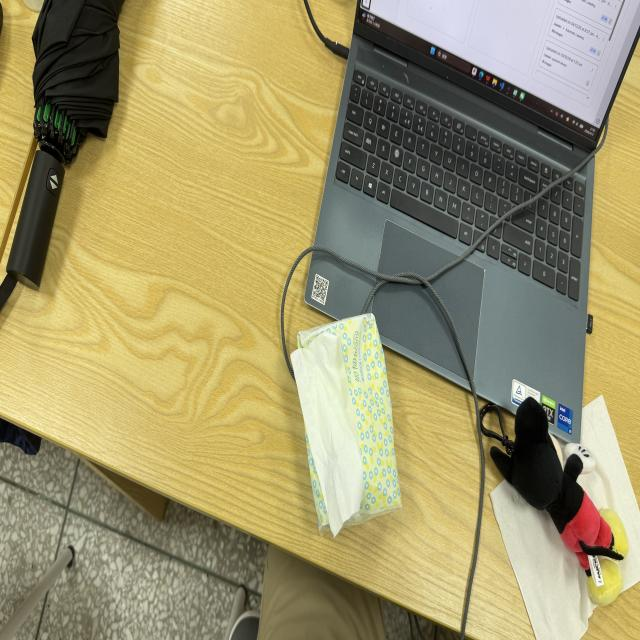mickey: (491, 398, 628, 605)
tissue: (292, 314, 401, 535)
